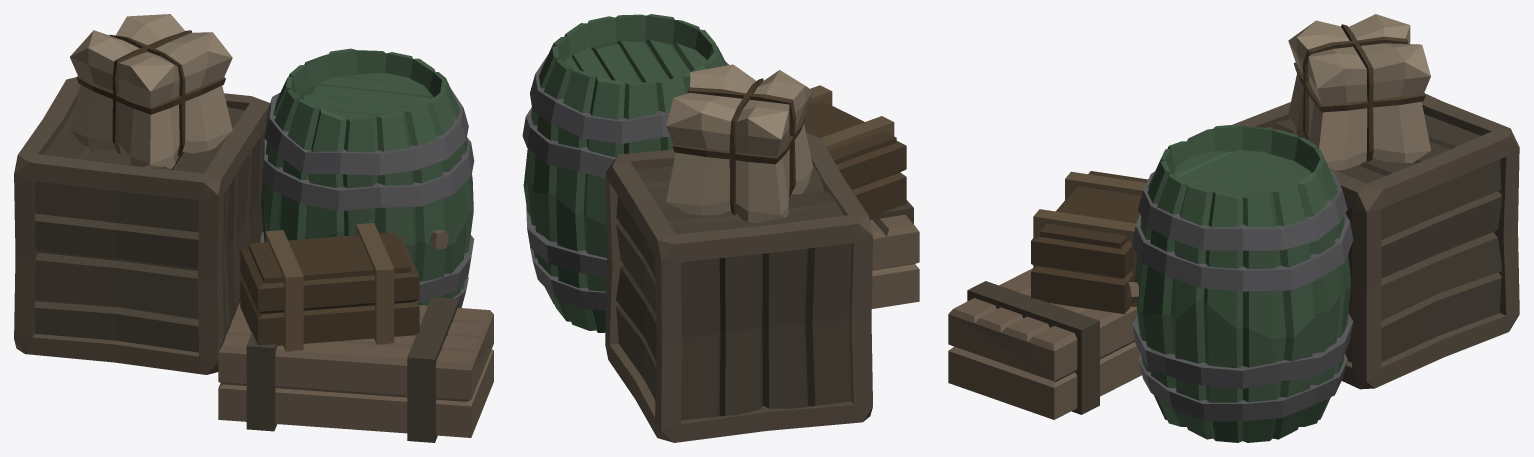
The model's file is SM_Prop_Stack_04.glb.
3 renders of one model, left to right at view 1: azimuth 30°, elevation 25°; view 2: azimuth 150°, elevation 25°; view 3: azimuth 270°, elevation 25°, orthographic. The views are drawn at different scales.
Visible parts, largest first — view 1: SM_Prop_Stack_04; view 2: SM_Prop_Stack_04; view 3: SM_Prop_Stack_04.
Boxes of the visible parts, x1,y1,x2,y2 form: SM_Prop_Stack_04: [14, 14, 493, 442]; SM_Prop_Stack_04: [522, 14, 919, 442]; SM_Prop_Stack_04: [948, 14, 1519, 442].
Size of the model in its own units: 0.0176 by 0.0124 by 0.0222.
